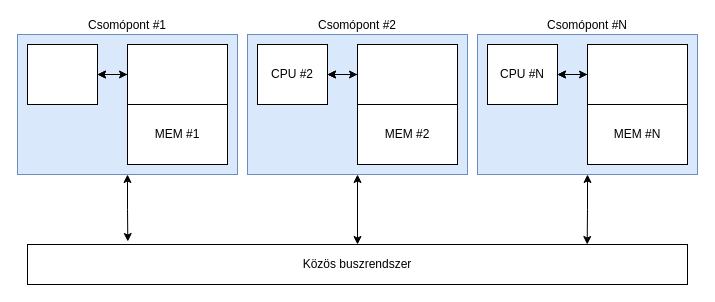
Image size: 715x302. Some labels were removed from this diagram. Here are the shapes that lost their labels. From the top down, the centre of each, then its label:
At [62,74]: "CPU #1".
At [177,74]: "Cache #1".
At [407,74]: "Cache #2".
At [637,74]: "Cache #N".
